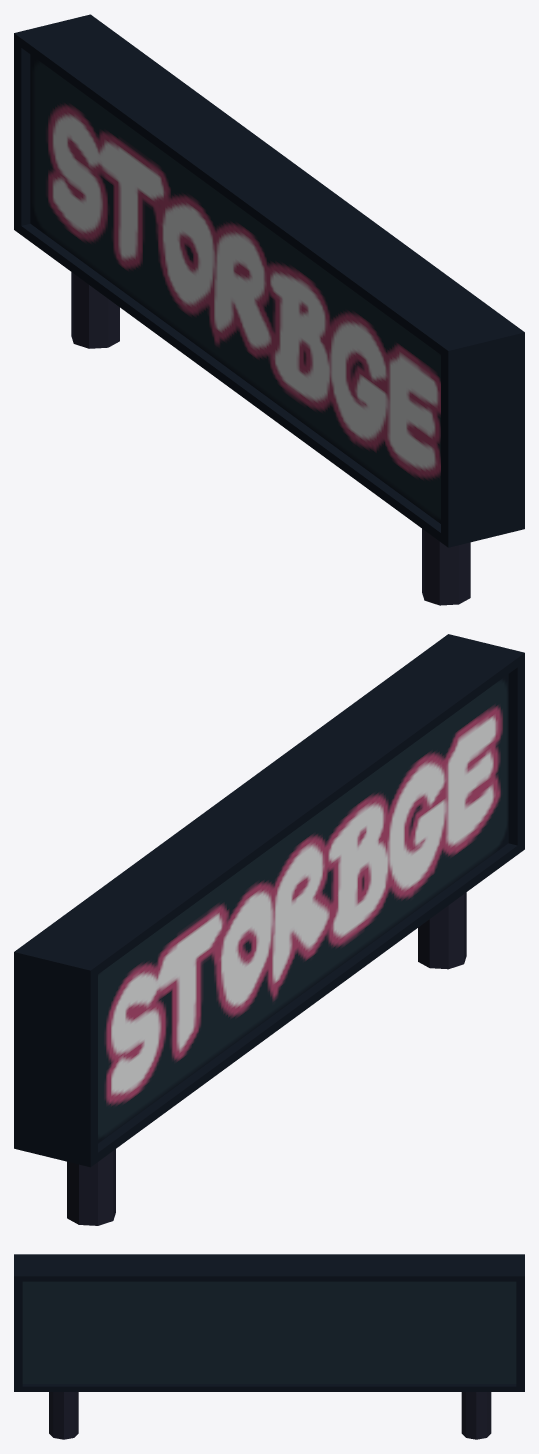
File: Sign_SafeKeepins02.fbx
The picture shows the model from 3 angles, top to bottom: view 1: azimuth 30°, elevation 25°; view 2: azimuth 150°, elevation 25°; view 3: azimuth 270°, elevation 25°; orthographic projection. The views are drawn at different scales.
Parts seen in each view (by area): view 1: Cube.639; view 2: Cube.639; view 3: Cube.639.
Part boxes in pixels (bbox=[...]): Cube.639: bbox=[14, 14, 524, 605]; Cube.639: bbox=[14, 634, 524, 1225]; Cube.639: bbox=[14, 1254, 524, 1439].
Size of the model in its own units: 30.18 by 107 by 296.
